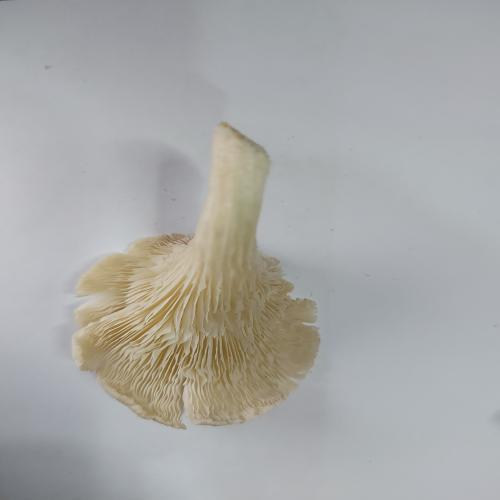Oyster Mushroom: (70, 121, 321, 430)
